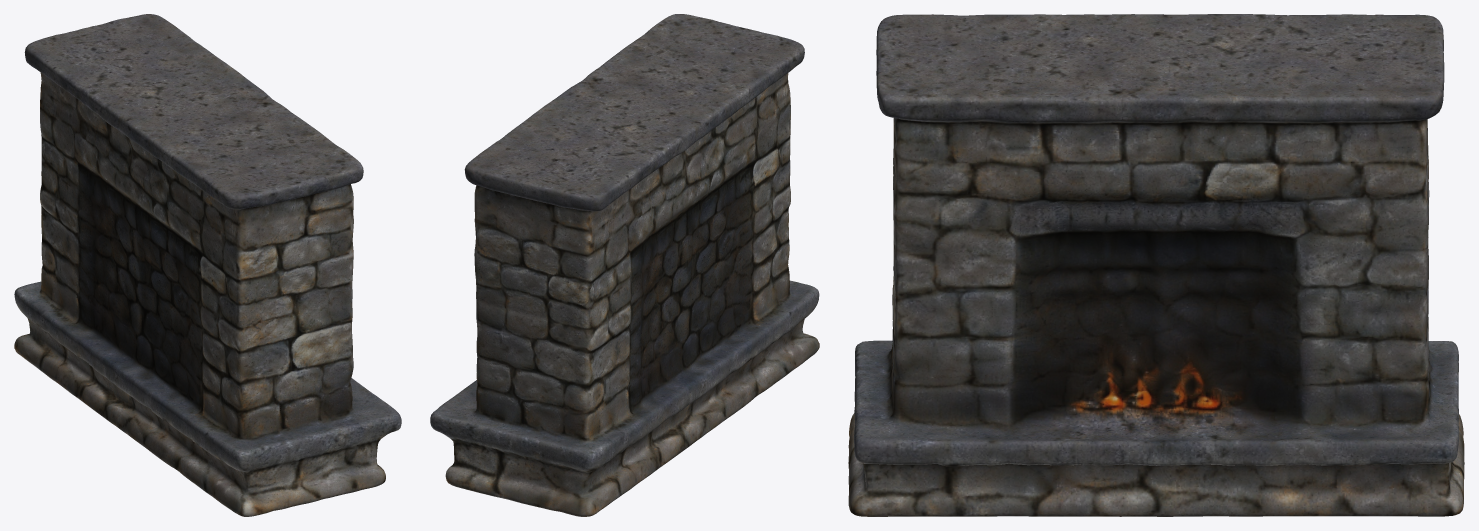
File: fireplace.gltf
3 renders of one model, left to right at view 1: azimuth 30°, elevation 25°; view 2: azimuth 150°, elevation 25°; view 3: azimuth 270°, elevation 25°, orthographic. The views are drawn at different scales.
Parts seen in each view (by area): view 1: model_0; view 2: model_0; view 3: model_0.
Part boxes in pixels (left/top/right/bottom): model_0: left=14, top=14, right=401, bottom=516; model_0: left=430, top=14, right=819, bottom=516; model_0: left=848, top=14, right=1464, bottom=516.
Size of the model in its own units: 0.6082 by 1.09 by 1.47.
1 material, 1 textured.
